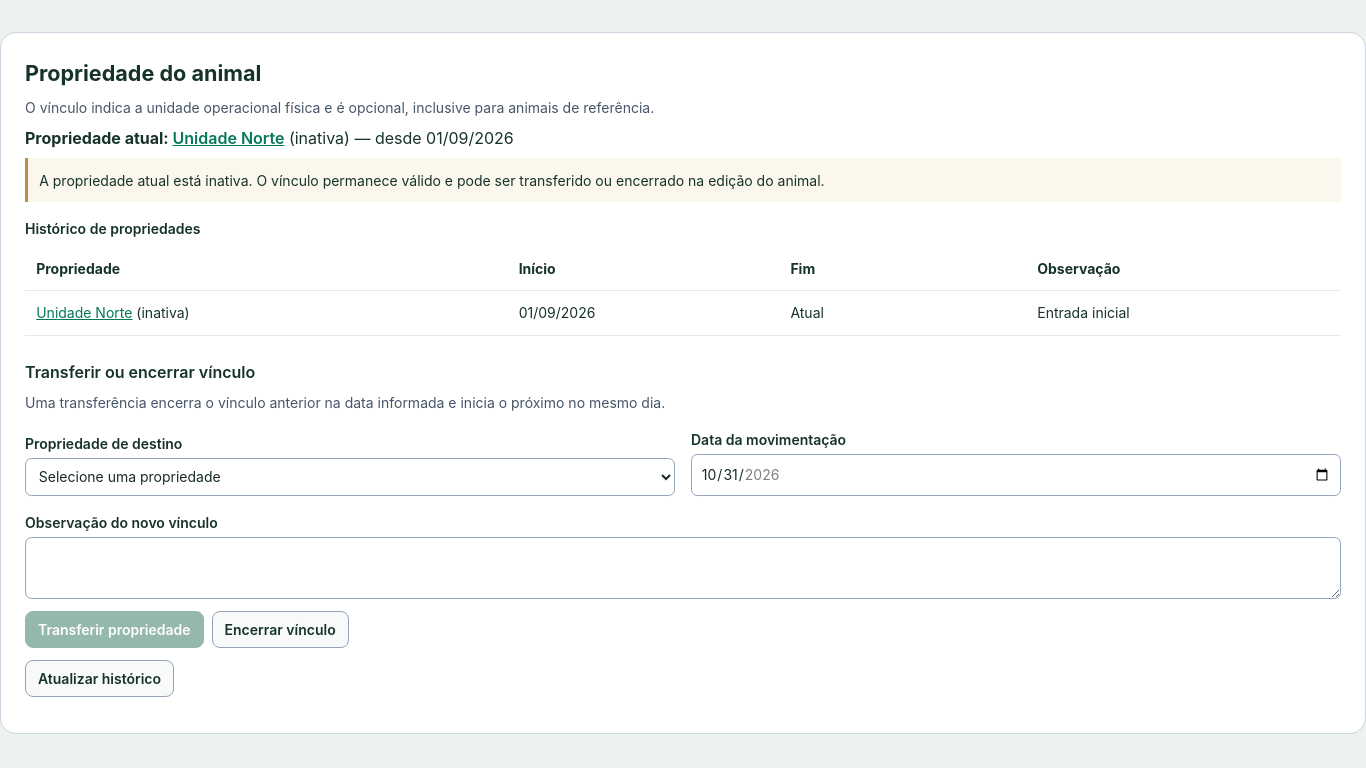
Scenario: AnimalPropertiesPanel › recarrega após conflito para não repetir uma operação com vínculo desatualizado
Select "Unidade Sul" in the dropdown labelled "Propriedade de destino": (350, 477) [25, 458, 675, 496]
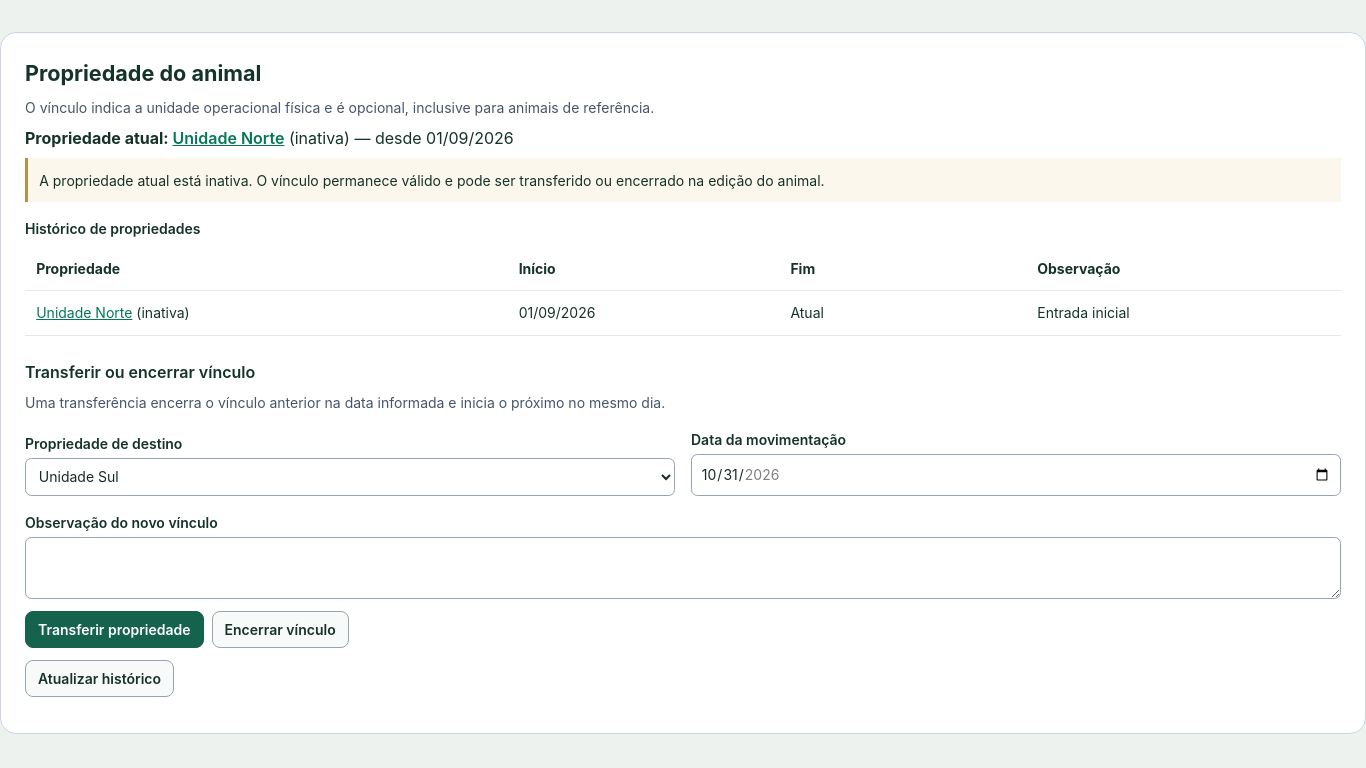
In the date field labelled "Data da movimentação": (1016, 475) [691, 454, 1341, 496], type "2026-09-02"
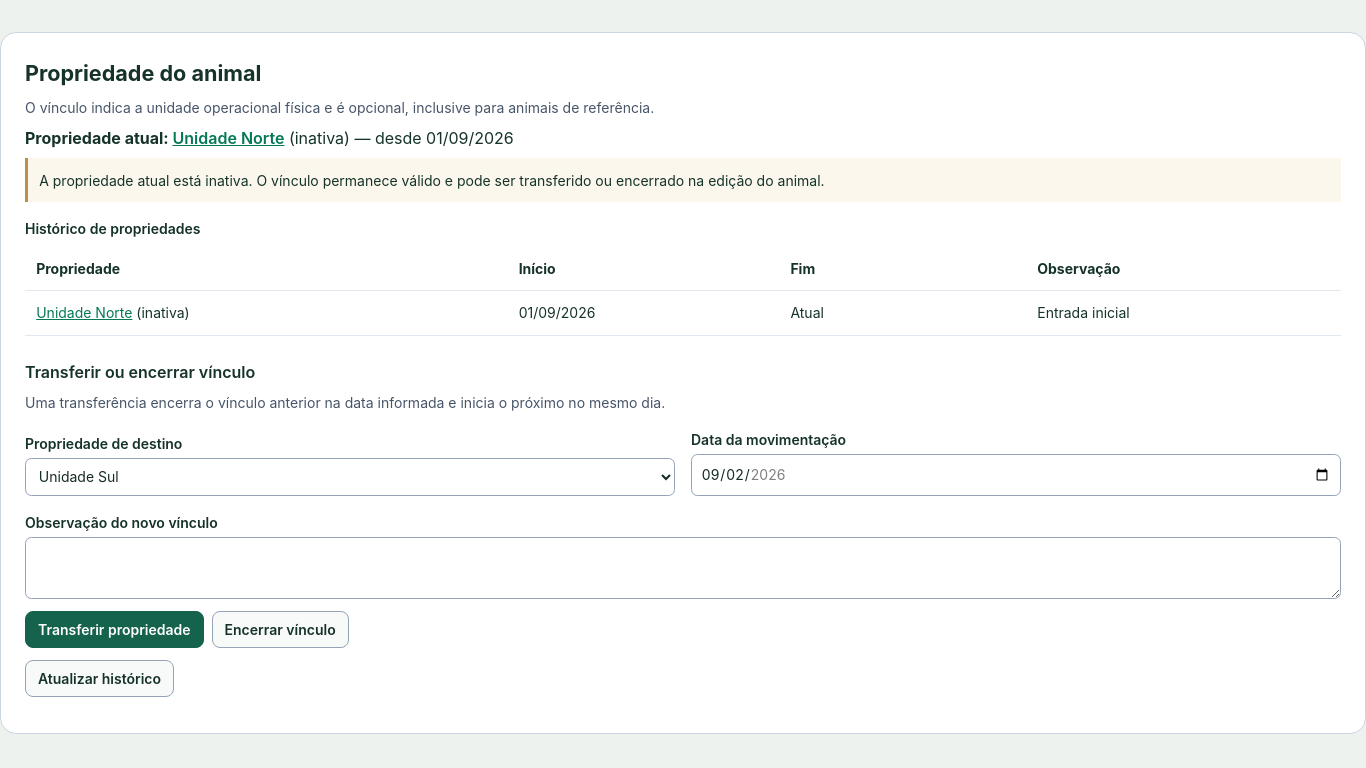
Click the button "Transferir propriedade": (114, 629) [25, 611, 204, 648]
(page scrolled)
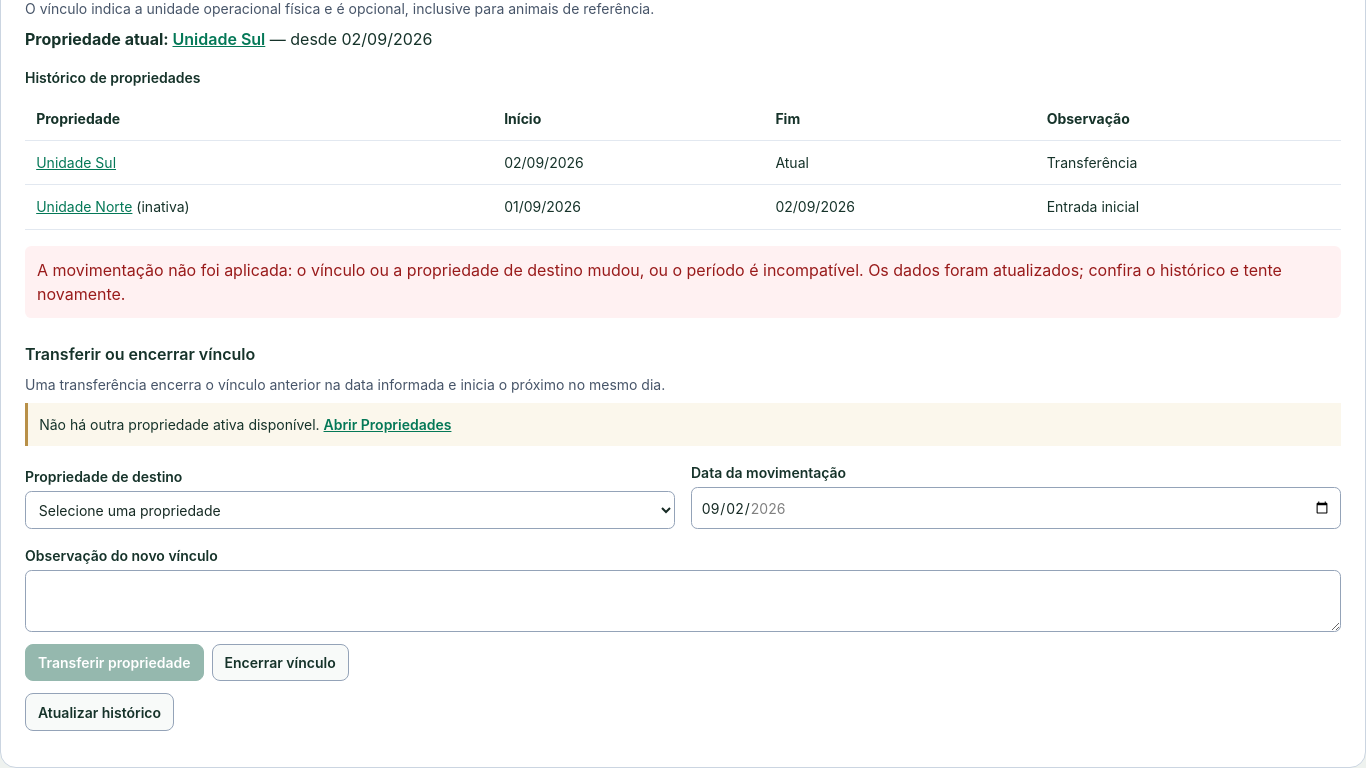
Result: the message shows "A movimentação não foi aplicada" at [37, 260, 1282, 304]
Result: the text "Transferência" is shown at [1035, 140, 1341, 185]
Result: the button "Transferir propriedade" is disabled at [25, 644, 204, 682]
